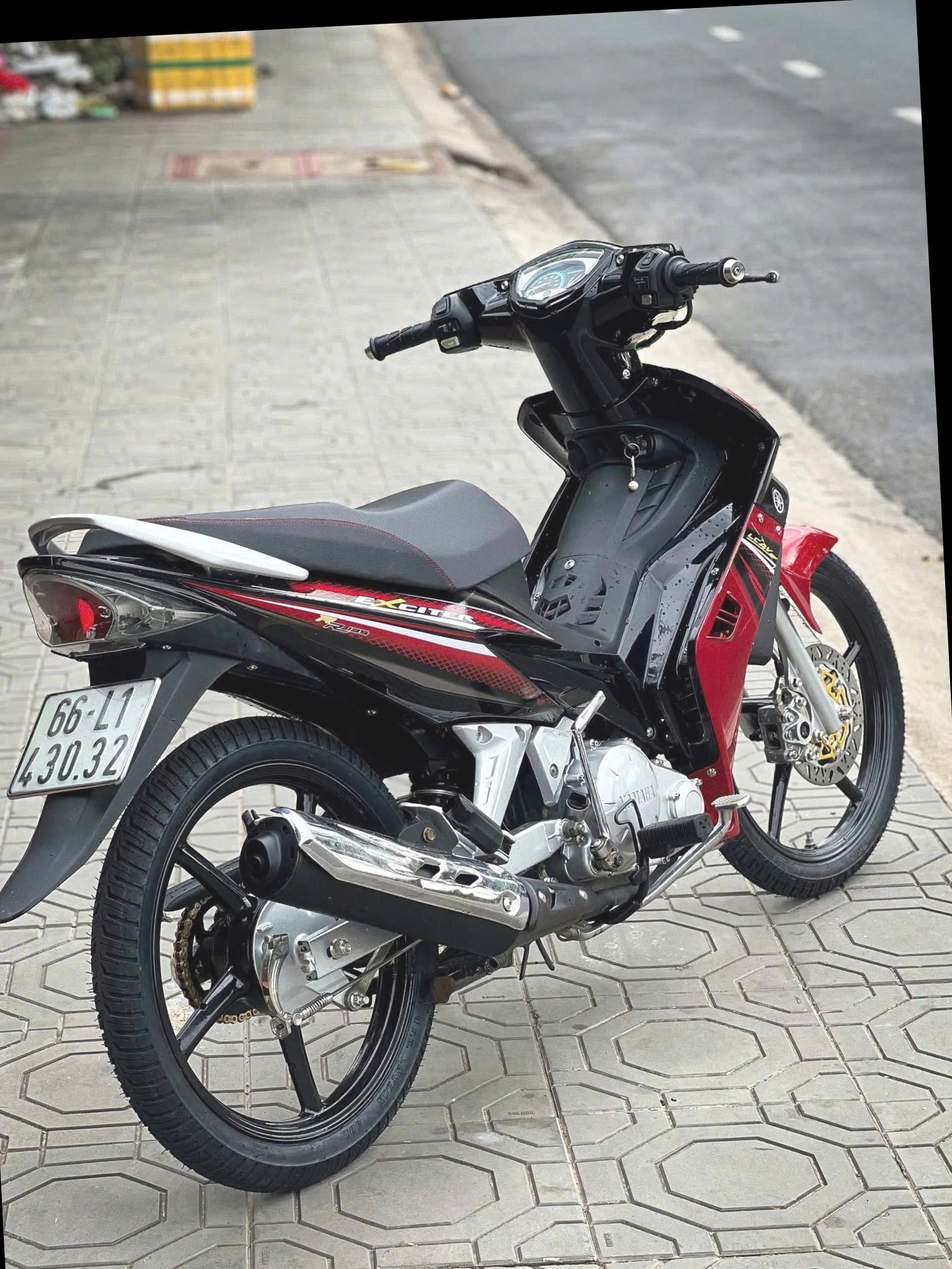Bien-so: (2, 681, 170, 794)
